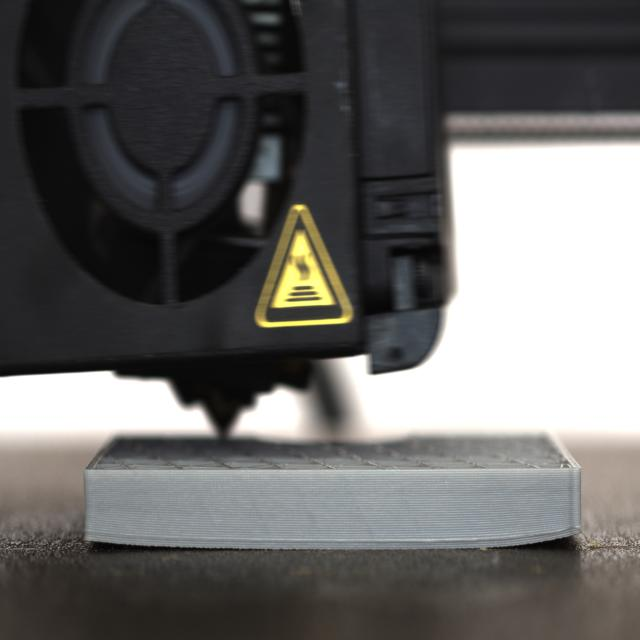Warping: (526, 519, 582, 552), (78, 527, 142, 554)
